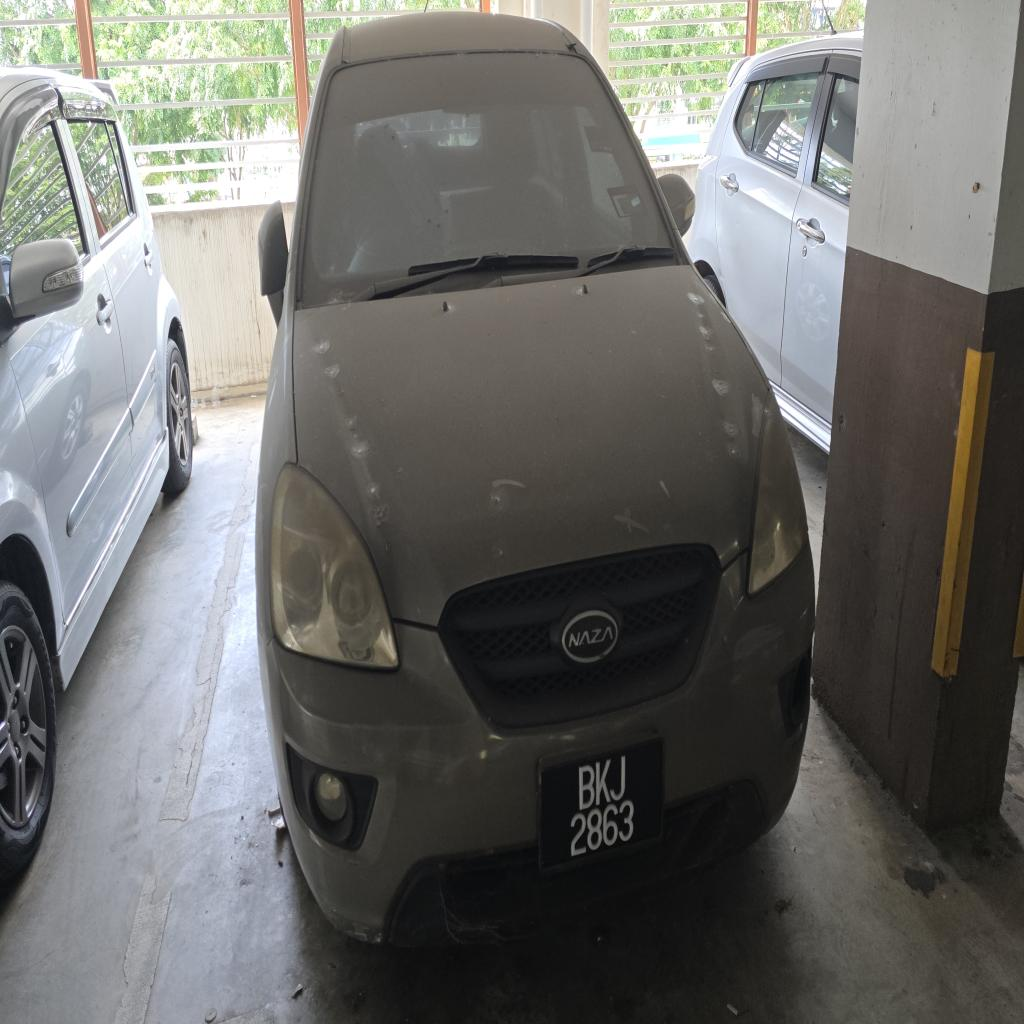car: (257, 13, 813, 943)
car plate: (540, 738, 663, 868)
